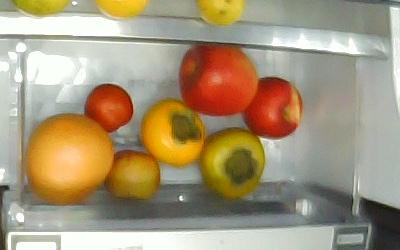apple: (178, 44, 258, 117), (241, 75, 303, 139)
grapefruit: (23, 111, 114, 205)
persimmon: (197, 125, 265, 199), (138, 97, 205, 165)
prune: (104, 148, 161, 201), (83, 82, 134, 132)
